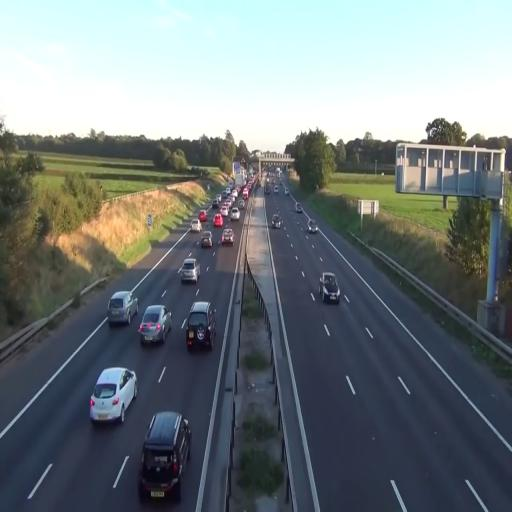vehicle: (138, 411, 192, 500), (88, 366, 138, 424), (184, 302, 214, 352), (138, 304, 172, 345), (108, 290, 134, 327), (320, 272, 340, 304), (179, 256, 200, 286), (228, 202, 242, 222), (221, 226, 234, 246), (200, 233, 213, 249), (272, 212, 282, 229), (308, 223, 314, 234)
